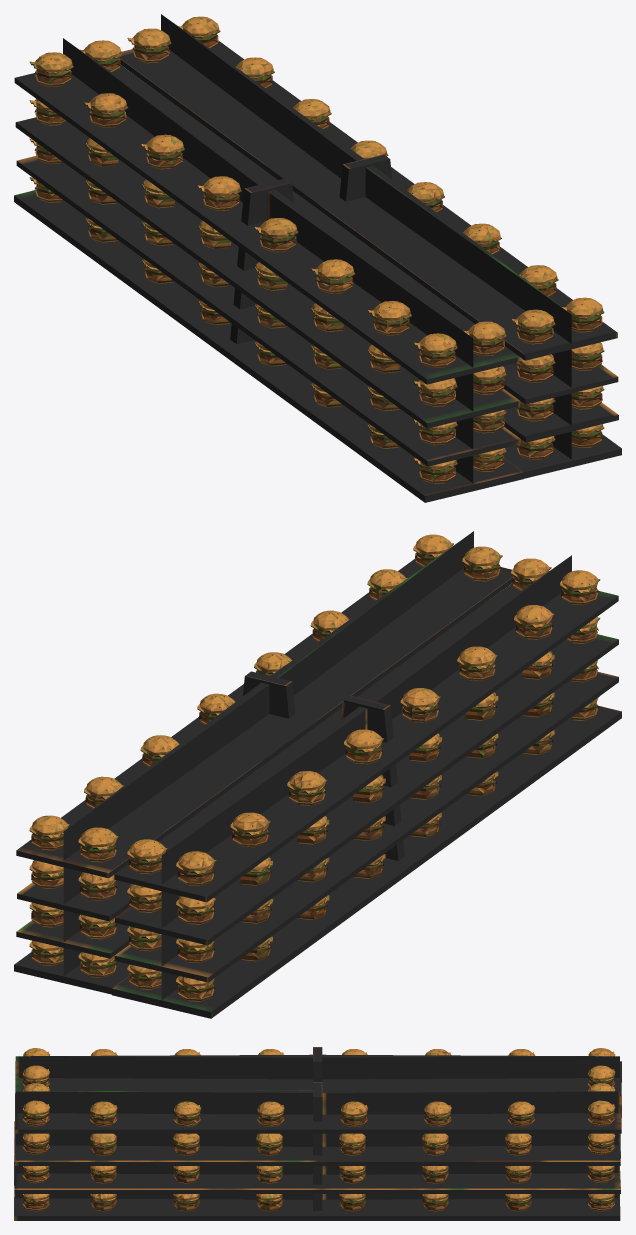
The model's file is EstanteComida5x2 1.fbx.
The picture shows the model from 3 angles, top to bottom: view 1: azimuth 30°, elevation 25°; view 2: azimuth 150°, elevation 25°; view 3: azimuth 270°, elevation 25°; orthographic projection. The views are drawn at different scales.
Parts seen in each view (by area): view 1: hamburguesa.001; view 2: hamburguesa.001; view 3: hamburguesa.001.
Part boxes in pixels (left/top/right/bottom): hamburguesa.001: left=14, top=14, right=621, bottom=502; hamburguesa.001: left=14, top=531, right=621, bottom=1018; hamburguesa.001: left=14, top=1047, right=621, bottom=1220.
Size of the model in its own units: 280 by 210 by 1018.
1 material, 1 textured.
